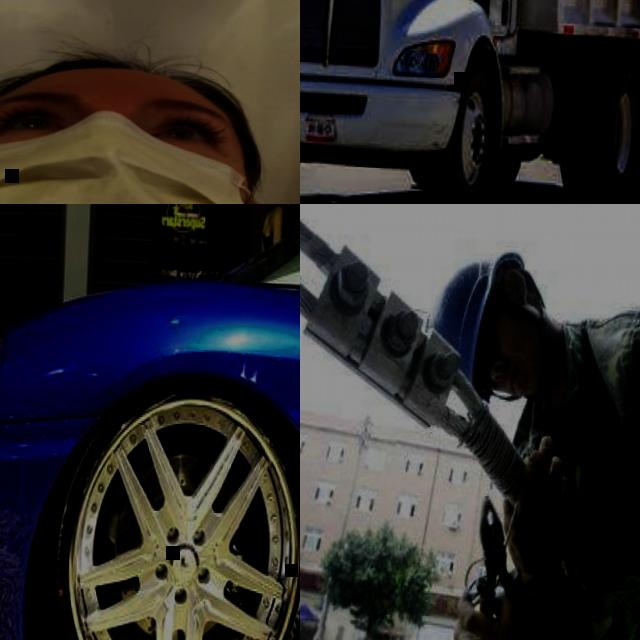Hardhat: (0, 48, 254, 121), (430, 245, 524, 403)
Mask: (0, 106, 261, 204)
NO-Mask: (502, 318, 545, 398), (279, 204, 291, 208)
NO-Safety Vest: (503, 298, 640, 640), (261, 210, 284, 251)
Person: (404, 241, 640, 640), (0, 34, 300, 204), (258, 204, 293, 254)
machinery: (300, 0, 640, 204)
vehicle: (0, 204, 300, 640)
